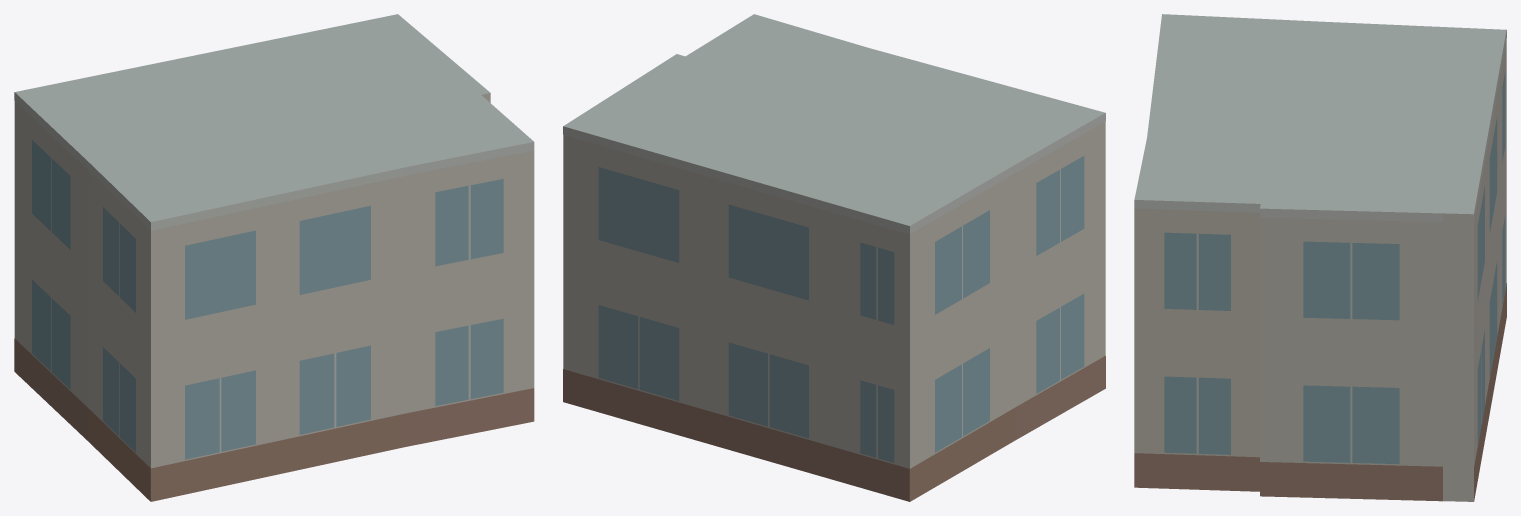
Rendered from survey-upis-32493459.glb.
3 views of the same model, side by side, from view 1: azimuth 30°, elevation 25°; view 2: azimuth 150°, elevation 25°; view 3: azimuth 270°, elevation 25° (orthographic). The views are drawn at different scales.
Visible parts, largest first — view 1: survey-upis-32493459.tmp; view 2: survey-upis-32493459.tmp; view 3: survey-upis-32493459.tmp.
Boxes of the visible parts, left/top/right/bottom form: survey-upis-32493459.tmp: left=14, top=14, right=534, bottom=501; survey-upis-32493459.tmp: left=563, top=14, right=1105, bottom=501; survey-upis-32493459.tmp: left=1134, top=14, right=1506, bottom=501.
Bounding box in the file's own units: 11.87 × 7.95 × 9.33.
